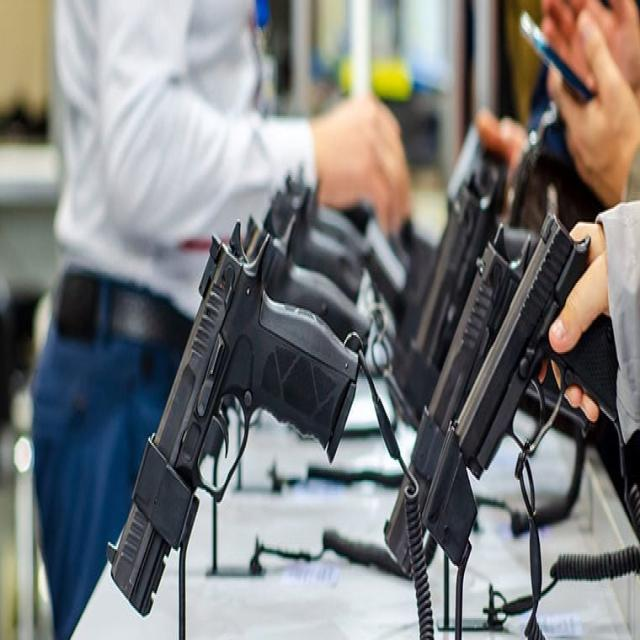Weapon: (108, 222, 358, 613), (422, 211, 619, 571)
